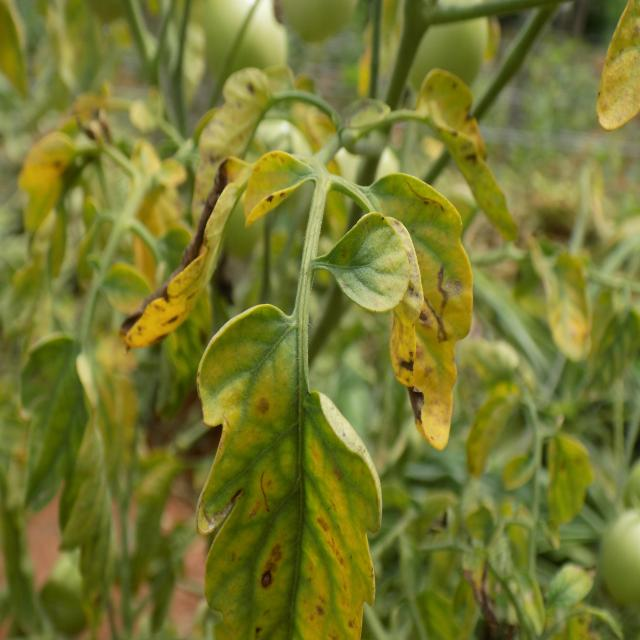tomato_early blight: (195, 300, 383, 640), (120, 146, 314, 359), (363, 169, 473, 447), (186, 56, 298, 232), (421, 72, 537, 240), (9, 108, 86, 245), (596, 0, 640, 124), (242, 141, 306, 220)
